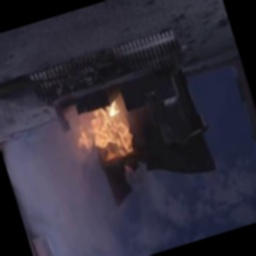fire: (65, 95, 143, 180)
